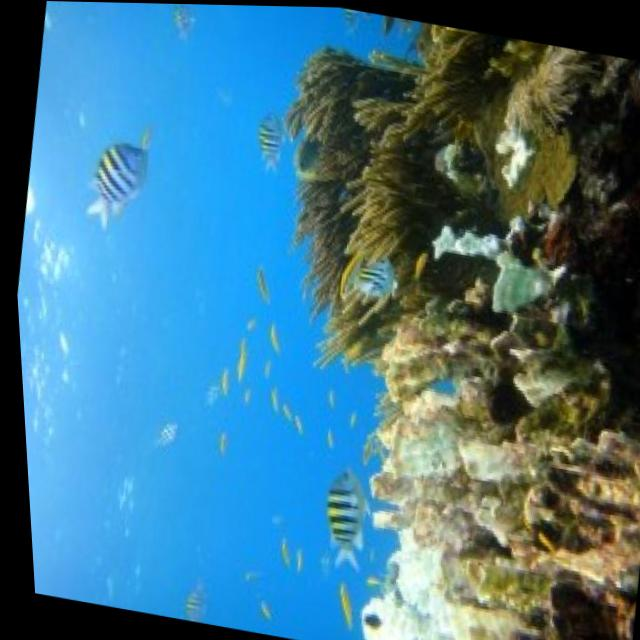Bleached Coral: (319, 393, 540, 640), (391, 173, 583, 341)
